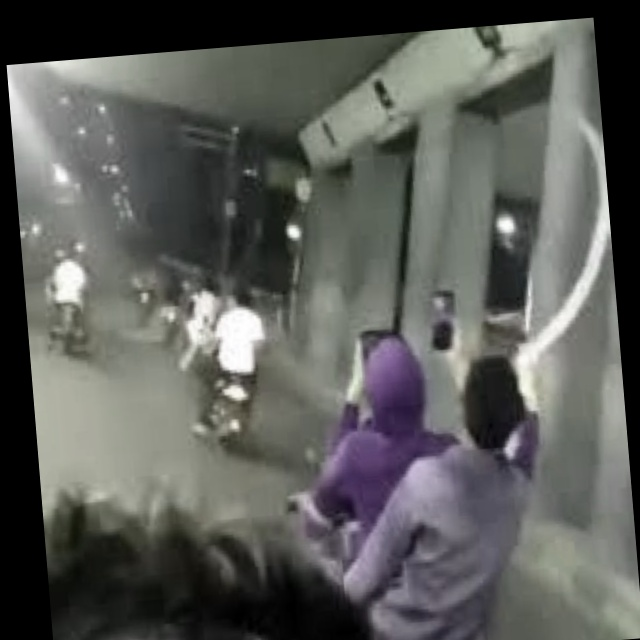Sharp-Object: (490, 84, 630, 480)
